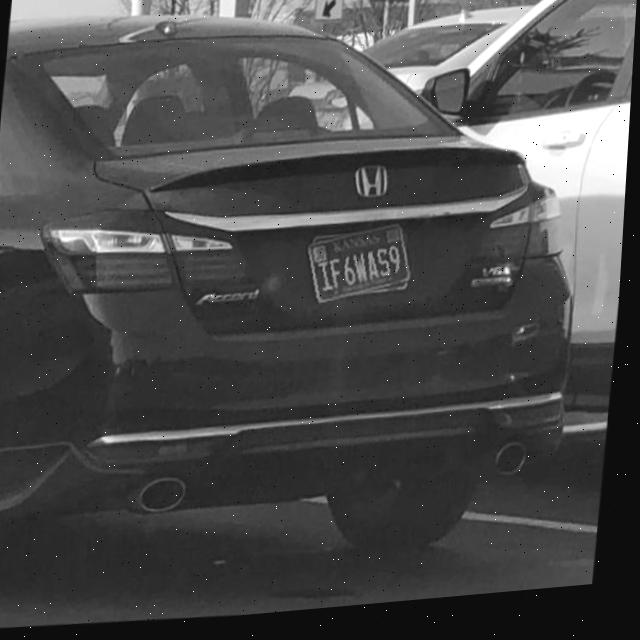LicensePlate: (309, 229, 416, 311)
